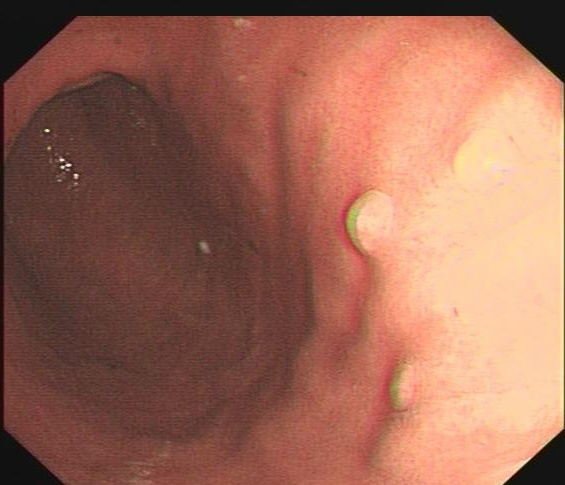Polyp: (336, 183, 411, 265), (444, 124, 518, 199)
